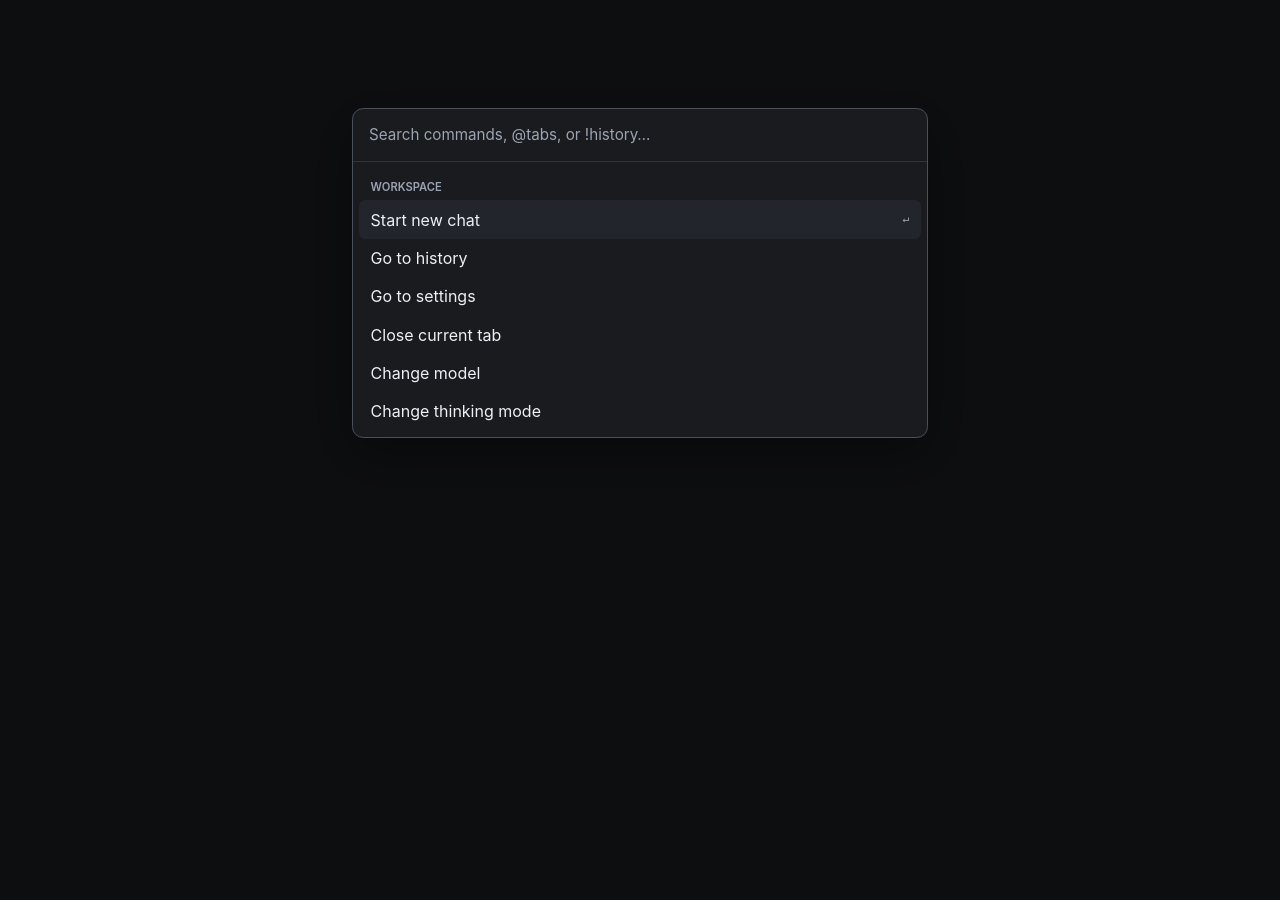
Test case: WorkspaceCommandMenu › lists every open tab in @ mode and marks the routed tab as current
This screenshot has width=1280, height=900.
expect the dialog is shown: met, box [352,108,928,438]
Type "@" into the dropdown at x=640, y=135, box [353,109,927,161]
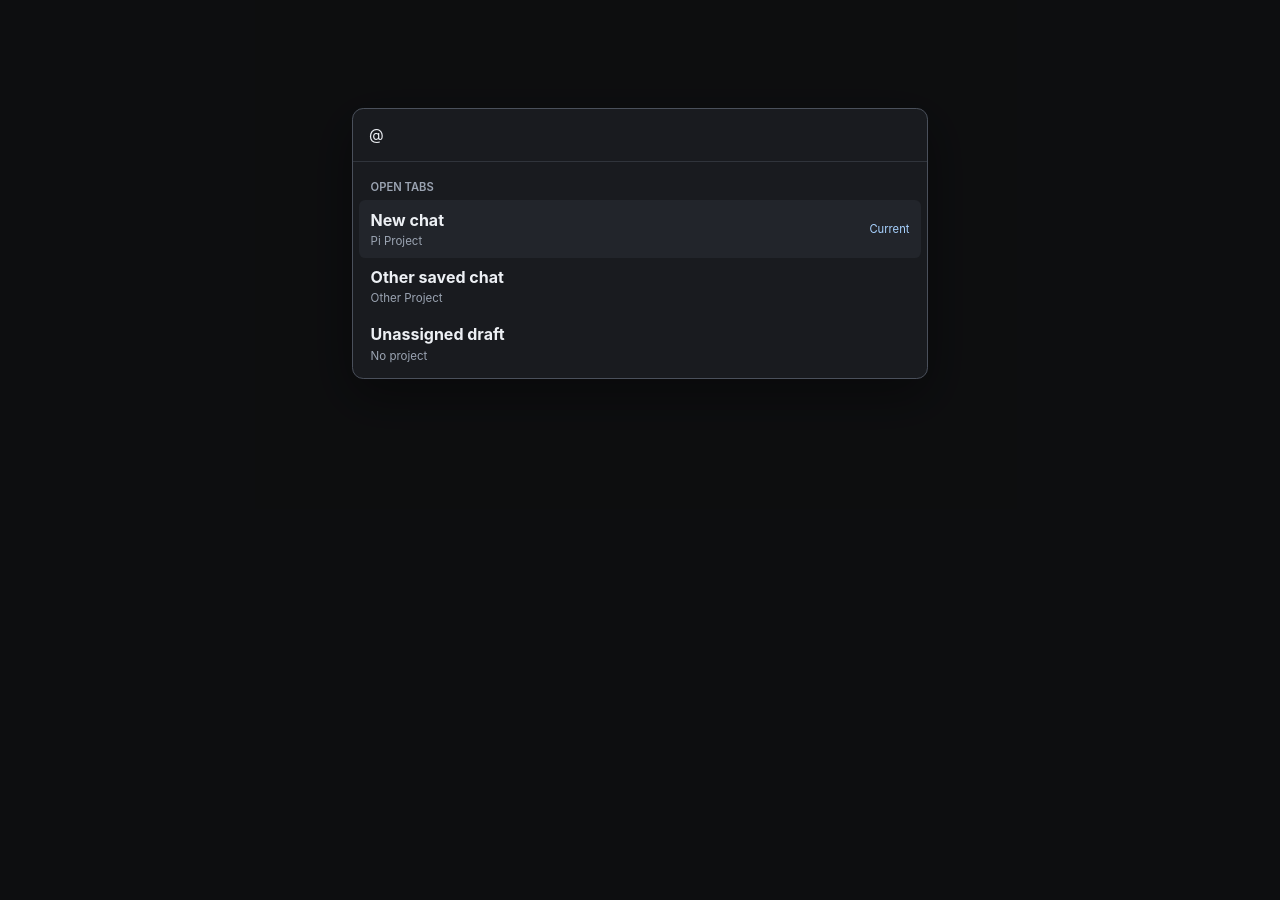
expect the option "New chat Pi Project Current" is shown: met, box [359,200,921,258]
expect the option "Other saved chat Other Project" is shown: met, box [371,267,504,305]
expect the option "Unassigned draft No project" is shown: met, box [371,324,505,363]
